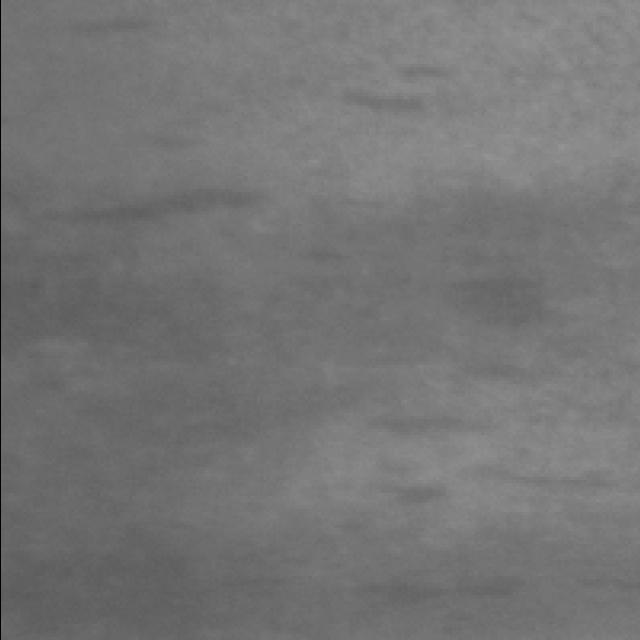inclusion: (48, 180, 290, 244), (342, 48, 486, 140), (372, 390, 494, 460)
